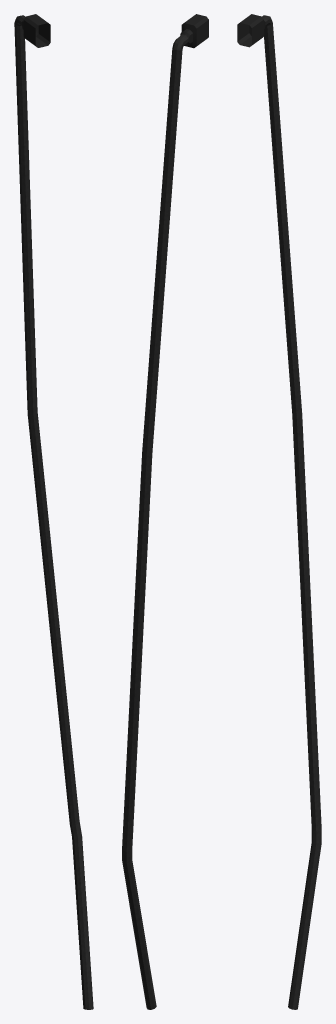
The model's file is Cabel.fbx.
3 renders of one model, left to right at view 1: azimuth 30°, elevation 25°; view 2: azimuth 150°, elevation 25°; view 3: azimuth 330°, elevation 25°, orthographic. The views are drawn at different scales.
Visible parts, largest first — view 1: Cabel; view 2: Cabel; view 3: Cabel.
Part boxes in pixels (x1,y1,x2,y2): Cabel: [14, 14, 93, 1009]; Cabel: [122, 14, 208, 1009]; Cabel: [237, 14, 321, 1009].
Size of the model in its own units: 5.84 by 85.19 by 5.4.
